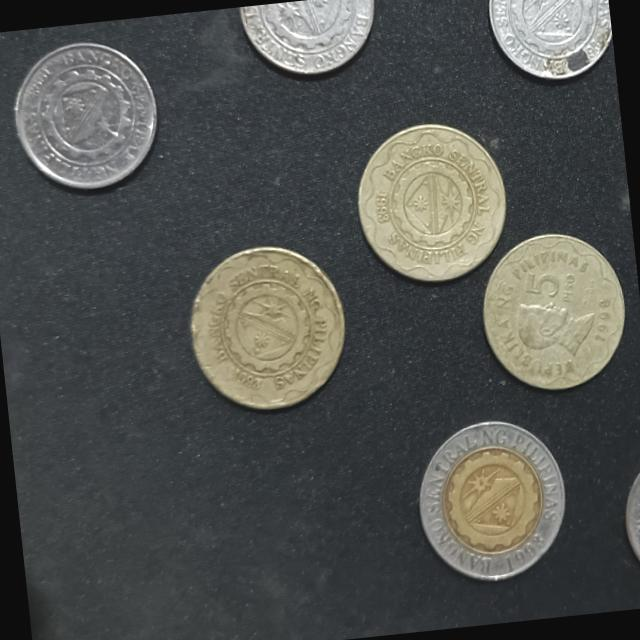10_peso: (419, 421, 564, 579)
1_peso: (15, 44, 155, 186), (240, 0, 372, 73), (490, 0, 611, 77)
5_peso: (192, 247, 342, 406), (358, 124, 505, 280), (483, 234, 624, 388)
